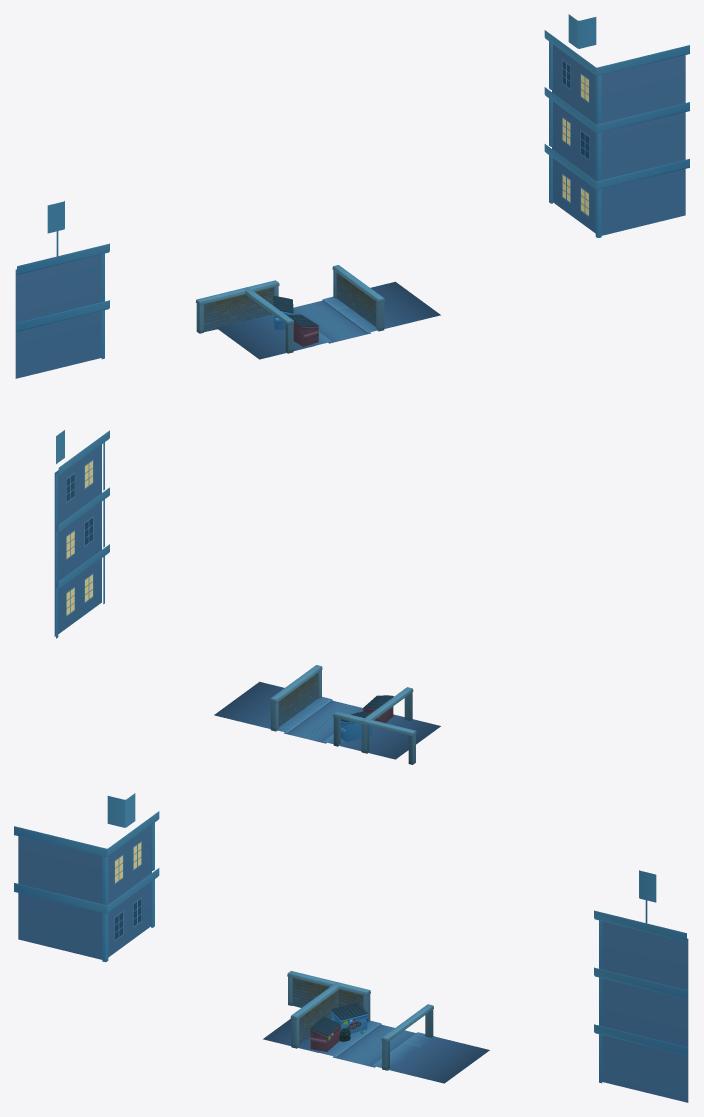
File: UrbanDumpsters01.prefab.glb
3 views of the same model, one above another, from view 1: azimuth 30°, elevation 25°; view 2: azimuth 150°, elevation 25°; view 3: azimuth 330°, elevation 25° (orthographic).
Parts seen in each view (by area): view 1: FarBackBuilding01, UrbanDumpsters01, BrickWall (4), BrickWall (3), BrickWall (2), DumpsterRed; view 2: FarBackBuilding01, UrbanDumpsters01, BrickWall (3), BrickWall (4), BrickWall (2); view 3: FarBackBuilding01, UrbanDumpsters01, BrickWall (4), BrickWall (2), BrickWall (3), DumpsterRed, DumpsterBlue.
Part boxes in pixels (x1,y1,x2,y2): FarBackBuilding01: (15, 14, 689, 378); UrbanDumpsters01: (217, 281, 440, 359); BrickWall (4): (195, 280, 279, 333); BrickWall (3): (332, 265, 384, 331); BrickWall (2): (243, 287, 294, 353); DumpsterRed: (287, 314, 318, 346); FarBackBuilding01: (54, 430, 109, 638); UrbanDumpsters01: (214, 681, 440, 759); BrickWall (3): (270, 665, 322, 731); BrickWall (4): (333, 711, 416, 764); BrickWall (2): (361, 687, 413, 753); FarBackBuilding01: (14, 793, 688, 1102); UrbanDumpsters01: (263, 1019, 489, 1083); BrickWall (4): (287, 971, 370, 1022); BrickWall (2): (290, 982, 341, 1048); BrickWall (3): (381, 1004, 433, 1070); DumpsterRed: (310, 1017, 340, 1051); DumpsterBlue: (331, 1002, 368, 1033).
Size of the model in its own units: 76.34 by 26.74 by 10.17.
5 materials, 4 textured.
